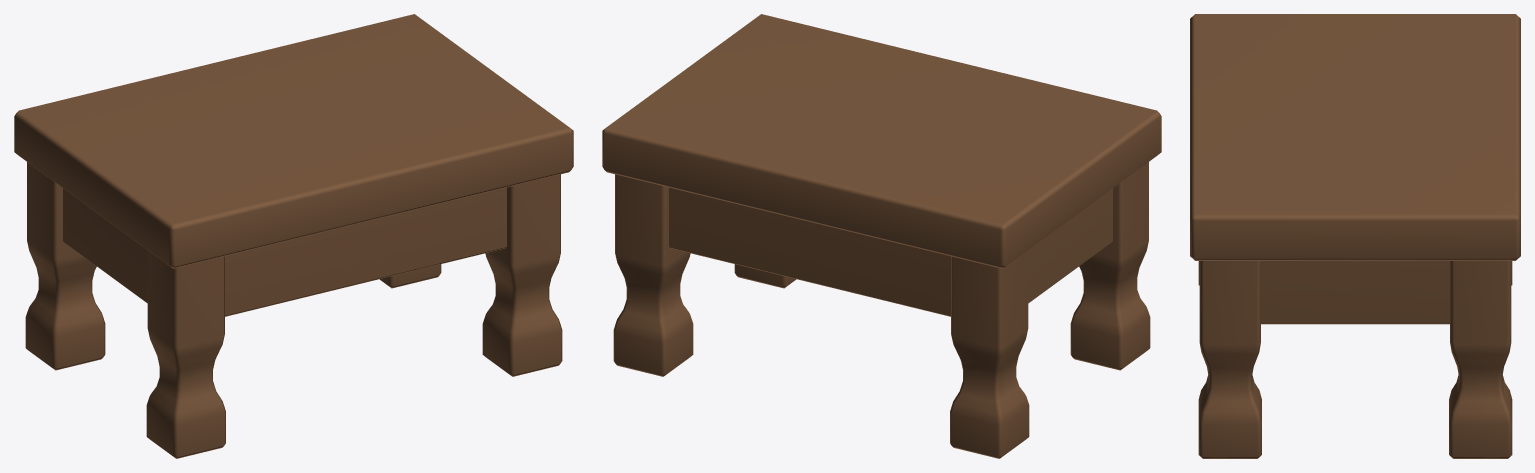
Rendered from Table_15.glb.
3 views of the same model, side by side, from view 1: azimuth 30°, elevation 25°; view 2: azimuth 150°, elevation 25°; view 3: azimuth 270°, elevation 25° (orthographic). The views are drawn at different scales.
Visible parts, largest first — view 1: Table_15; view 2: Table_15; view 3: Table_15.
Boxes of the visible parts, left/top/right/bottom form: Table_15: left=14, top=14, right=573, bottom=458; Table_15: left=602, top=14, right=1161, bottom=458; Table_15: left=1190, top=14, right=1520, bottom=458.
Size of the model in its own units: 1.03 by 0.5819 by 0.7025.
Materials: 1 (1 with a texture image).
